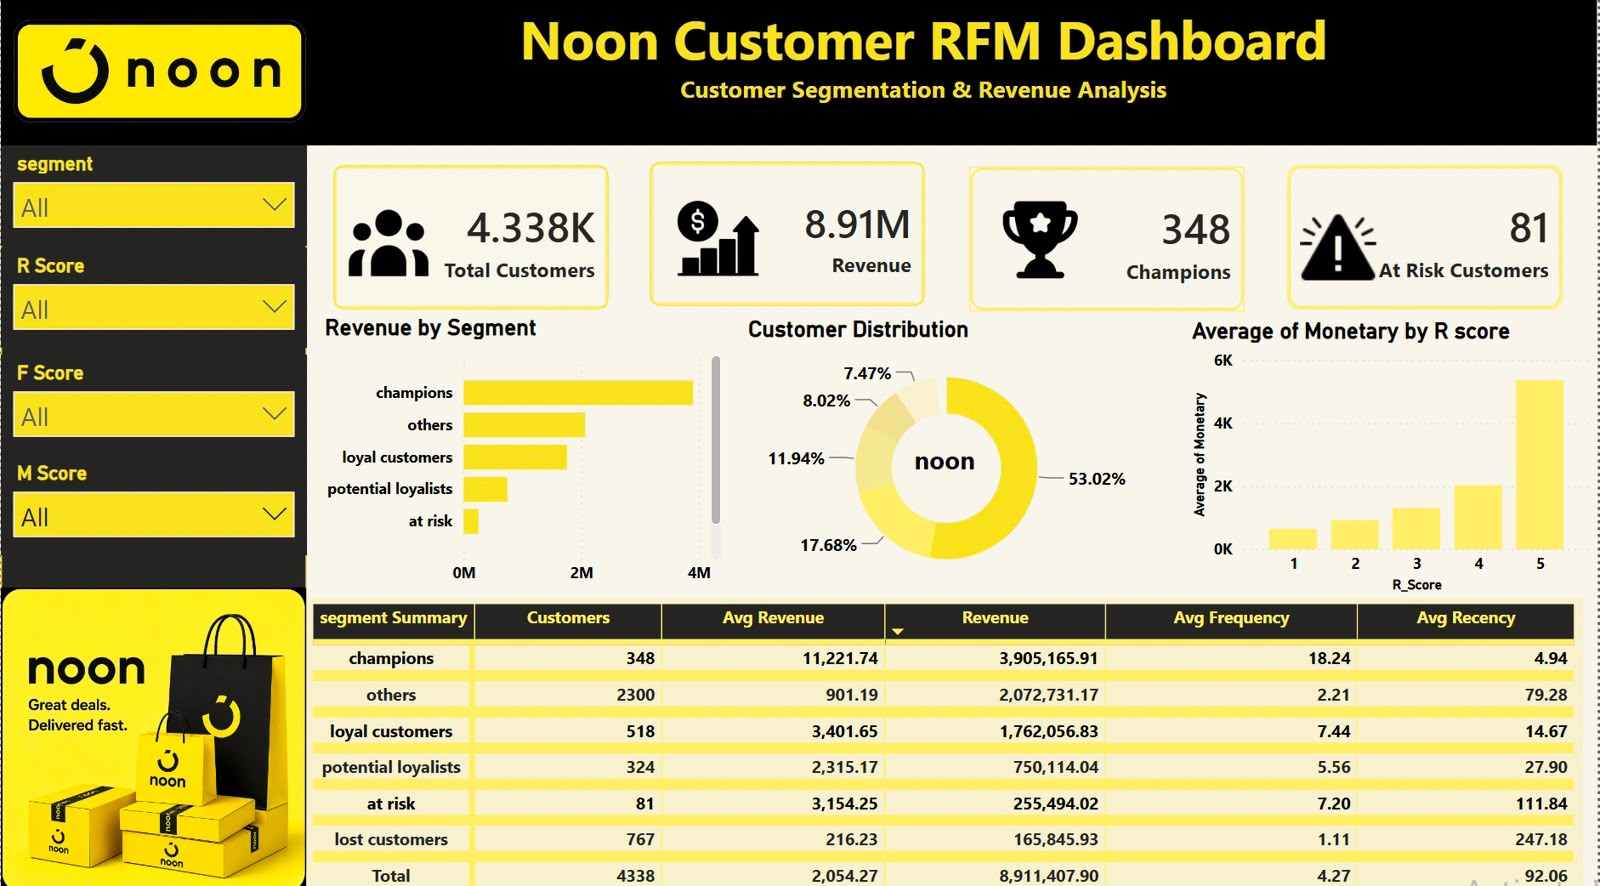

What the dashboard file says about the page in this screenshot:
{"tool":"powerbi","page":{"name":"Page 1","canvas":[1280,720],"ordinal":0},"visuals":[{"type":"textbox","box":[0,0,1280,120.2],"z":0},{"type":"cardVisual","fields":{"Data":["CountNonNull(customer_final.CustomerID)"]},"box":[249.5,118.6,255,150],"z":1000},{"type":"cardVisual","fields":{"Data":["online_retail_features.total rev cus"]},"box":[503.2,115.9,255,150],"z":2000},{"type":"cardVisual","fields":{"Data":["customer_final.risk count"]},"box":[1014.5,118.6,255,150],"z":3000},{"type":"shape","box":[0,120.2,245.2,599.7],"z":4000},{"type":"slicer","fields":{"Values":["customer_final.M_Score"]},"box":[0,368.5,245.7,80.4],"z":5000},{"type":"slicer","fields":{"Values":["customer_final.F_Score"]},"box":[0,288.2,245.7,80.4],"z":6000},{"type":"slicer","fields":{"Values":["customer_final.segment"]},"box":[0,119.8,245.7,80.4],"z":7000},{"type":"slicer","fields":{"Values":["customer_final.R_Score"]},"box":[0,201.7,245.7,80.4],"z":8000},{"type":"cardVisual","fields":{"Data":["customer_final.champions count"]},"box":[759.5,120,255,150],"z":9000},{"type":"image","box":[0,474.7,245.2,245.2],"z":10000},{"type":"image","box":[0,0,254.7,120.2],"z":11000},{"type":"clusteredBarChart","title":"Revenue by Segment","fields":{"Y":["Sum(customer_final.Monetary)"],"Category":["customer_final.segment"]},"box":[254.8,254.8,327.6,226],"z":12000},{"type":"donutChart","title":"Customer Distribution","fields":{"Category":["customer_final.segment"],"Y":["Count(customer_final.CustomerID)"]},"box":[594.5,256.3,327.6,224.5],"z":13000},{"type":"clusteredColumnChart","title":"Average of Monetary by R score","fields":{"Category":["customer_final.R_Score"],"Y":["Avg(customer_final.Monetary)"]},"box":[950.9,257.8,329,225],"z":14000},{"type":"pivotTable","fields":{"Rows":["customer_final.segment"],"Values":["Count(customer_final.CustomerID)","Avg(customer_final.Monetary)1","Sum(customer_final.Monetary)","Avg(customer_final.Frequency)","Avg(customer_final.Recency)"]},"box":[245.7,482.3,1023.7,238.1],"z":15000},{"type":"image","box":[275.5,160.9,70.9,70.9],"z":15001},{"type":"image","box":[535.4,159.2,78.9,69.8],"z":15002},{"type":"image","box":[793.6,160.9,80,69.5],"z":15003},{"type":"image","box":[1041.8,166.4,61.4,69.5],"z":15004},{"type":"shape","box":[721.9,350.3,71.3,42.5],"z":15005}]}

Visuals, with their boxes in screenshot pixels (x1, y1, x2, y2), scaled from the page's 1280x720 canvas onto the 1600x886 screenshot:
textbox: <bbox>0, 0, 1599, 148</bbox>
cardVisual - CountNonNull(customer_final.CustomerID): <bbox>312, 146, 631, 331</bbox>
cardVisual - online_retail_features.total rev cus: <bbox>629, 143, 948, 327</bbox>
cardVisual - customer_final.risk count: <bbox>1268, 146, 1587, 331</bbox>
shape: <bbox>0, 148, 306, 885</bbox>
slicer - customer_final.M_Score: <bbox>0, 453, 307, 552</bbox>
slicer - customer_final.F_Score: <bbox>0, 355, 307, 454</bbox>
slicer - customer_final.segment: <bbox>0, 147, 307, 246</bbox>
slicer - customer_final.R_Score: <bbox>0, 248, 307, 347</bbox>
cardVisual - customer_final.champions count: <bbox>949, 148, 1268, 332</bbox>
image: <bbox>0, 584, 306, 885</bbox>
image: <bbox>0, 0, 318, 148</bbox>
"Revenue by Segment" clusteredBarChart: <bbox>318, 314, 728, 592</bbox>
"Customer Distribution" donutChart: <bbox>743, 315, 1153, 592</bbox>
"Average of Monetary by R score" clusteredColumnChart: <bbox>1189, 317, 1599, 594</bbox>
pivotTable - customer_final.segment x Count(customer_final.CustomerID): <bbox>307, 593, 1587, 885</bbox>
image: <bbox>344, 198, 433, 285</bbox>
image: <bbox>669, 196, 768, 282</bbox>
image: <bbox>992, 198, 1092, 284</bbox>
image: <bbox>1302, 205, 1379, 290</bbox>
shape: <bbox>902, 431, 991, 483</bbox>
